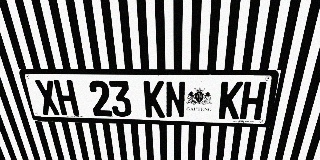2: (88, 80, 113, 116)
3: (108, 80, 132, 117)
H: (239, 82, 267, 120), (53, 80, 80, 116)
K: (218, 81, 244, 119), (143, 81, 165, 118)
N: (165, 81, 186, 118)
X: (34, 80, 61, 115)
